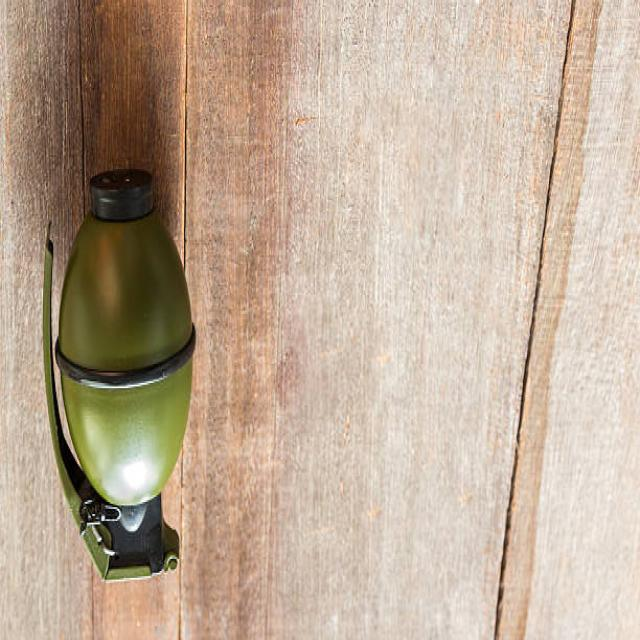grenade: (36, 166, 199, 588)
